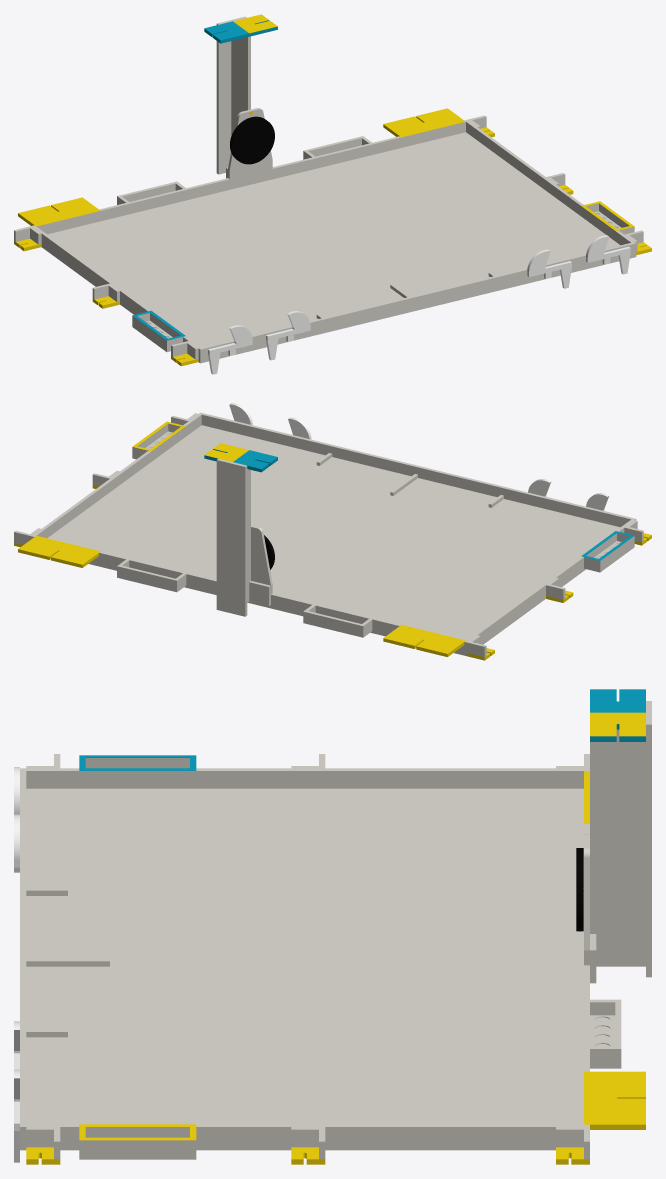
Rendered from table.dae.
The picture shows the model from 3 angles, top to bottom: view 1: azimuth 30°, elevation 25°; view 2: azimuth 150°, elevation 25°; view 3: azimuth 270°, elevation 25°; orthographic projection. The views are drawn at different scales.
Parts seen in each view (by area): view 1: Body1.009, Body1.006, Body1.005, Body1.008, Body1.029, Body1.007, Body1.028, Body1.063, Body1.030, Body2, Body2.001, Body1.055 (+6 smaller); view 2: Body1.009, Body1.006, Body1.029, Body1.005, Body1.008, Body1.007, Body2.001, Body2, Body1.030, Body1.055, Body1.032, Body1.001 (+2 smaller); view 3: Body1.009, Body1.028, Body1.007, Body1.008, Body2, Body1.030, Body1.006, Body1.037, Body1.029, Body1.042, Body1.067, Body1.066 (+4 smaller).
Boxes of the visible parts, left/top/right/bottom form: Body1.009: left=47, top=132, right=620, bottom=347; Body1.006: left=202, top=243, right=633, bottom=362; Body1.005: left=36, top=122, right=465, bottom=234; Body1.008: left=464, top=119, right=636, bottom=257; Body1.029: left=216, top=16, right=246, bottom=174; Body1.007: left=32, top=225, right=203, bottom=363; Body1.028: left=231, top=36, right=250, bottom=135; Body1.063: left=232, top=118, right=274, bottom=164; Body1.030: left=204, top=14, right=277, bottom=43; Body2: left=383, top=108, right=463, bottom=136; Body2.001: left=18, top=197, right=98, bottom=225; Body1.055: left=228, top=108, right=272, bottom=179; Body1.009: left=47, top=425, right=619, bottom=640; Body1.006: left=201, top=413, right=632, bottom=527; Body1.029: left=216, top=458, right=247, bottom=616; Body1.005: left=88, top=551, right=464, bottom=655; Body1.008: left=31, top=412, right=202, bottom=538; Body1.007: left=464, top=518, right=636, bottom=656; Body2.001: left=383, top=626, right=464, bottom=656; Body2: left=18, top=537, right=98, bottom=567; Body1.030: left=204, top=443, right=277, bottom=472; Body1.055: left=251, top=525, right=272, bottom=594; Body1.032: left=303, top=610, right=364, bottom=634; Body1.001: left=117, top=565, right=178, bottom=588; Body1.009: left=26, top=788, right=583, bottom=1124; Body1.028: left=590, top=729, right=645, bottom=966; Body1.007: left=20, top=768, right=589, bottom=788; Body1.008: left=20, top=1124, right=589, bottom=1150; Body2: left=590, top=1071, right=645, bottom=1129; Body1.030: left=590, top=689, right=645, bottom=741; Body1.006: left=20, top=771, right=26, bottom=1124; Body1.037: left=79, top=1140, right=196, bottom=1154; Body1.029: left=646, top=701, right=651, bottom=977; Body1.042: left=85, top=758, right=189, bottom=768; Body1.067: left=79, top=1124, right=196, bottom=1140; Body1.066: left=79, top=755, right=196, bottom=770.
Bounding box in the file's own units: 3.29 × 2.29 × 1.11.
